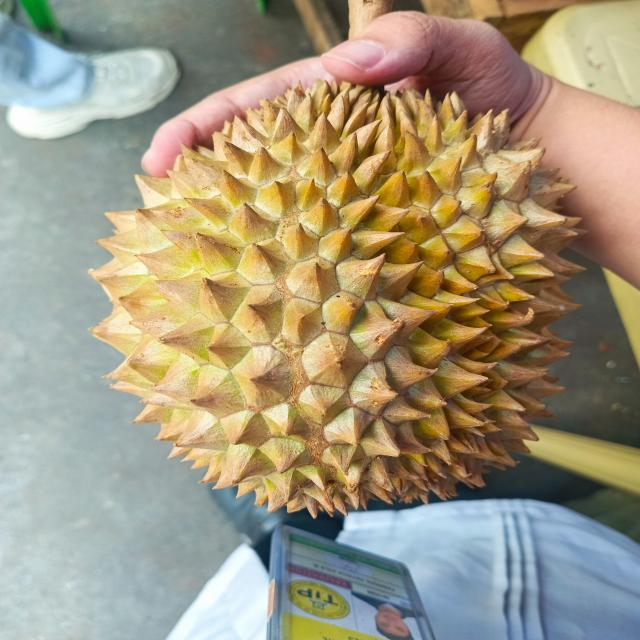mature: (94, 80, 581, 516)
